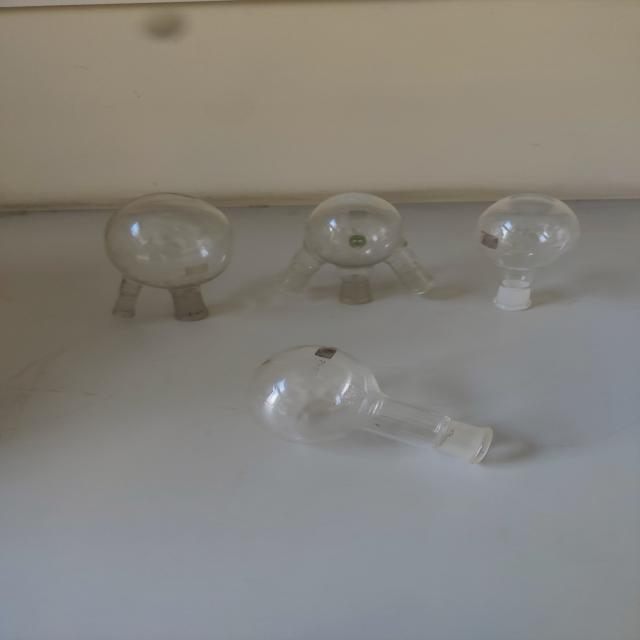Round_Bottom_Flask_Borosilicate_Glass_1_Neck: (205, 325, 529, 485), (461, 160, 601, 332)
Round_Bottom_Flask_Borosilicate_Glass_2_Neck: (56, 176, 263, 335)
Round_Bottom_Flask_Borosilicate_Glass_3_Neck: (274, 178, 452, 321)
